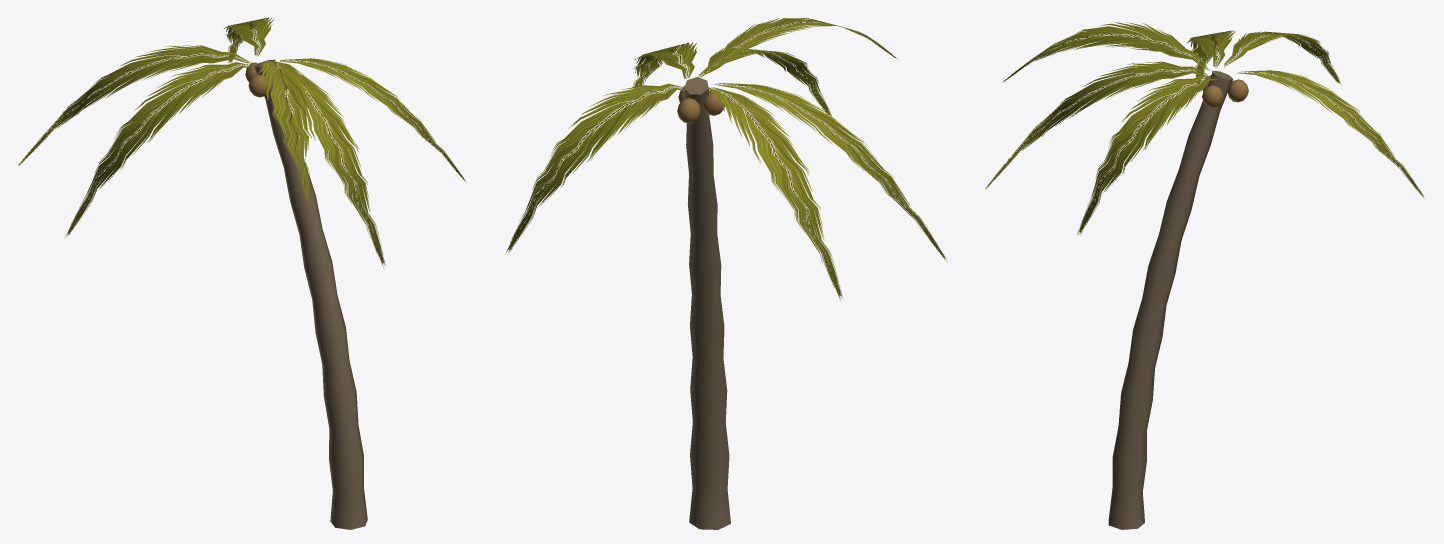
The model's file is palm_2_burnt1.glb.
3 views of the same model, side by side, from view 1: azimuth 30°, elevation 25°; view 2: azimuth 150°, elevation 25°; view 3: azimuth 270°, elevation 25° (orthographic). The views are drawn at different scales.
Parts seen in each view (by area): view 1: palm_2_burnt1; view 2: palm_2_burnt1; view 3: palm_2_burnt1.
Boxes of the visible parts, x1,y1,x2,y2 form: palm_2_burnt1: (18,17,465,529); palm_2_burnt1: (506,18,947,529); palm_2_burnt1: (985,22,1424,529).
Bounding box in the file's own units: 5.67 × 7.2 × 6.32.
Materials: 3 (1 with a texture image).
